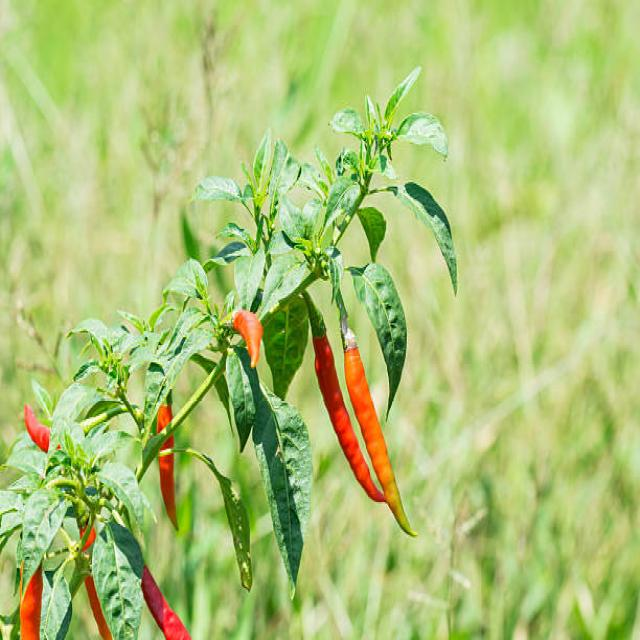Ripe: (346, 342, 418, 538), (313, 334, 386, 504), (142, 565, 190, 638), (157, 391, 179, 532), (231, 304, 261, 367), (21, 563, 41, 638), (25, 405, 49, 452)
